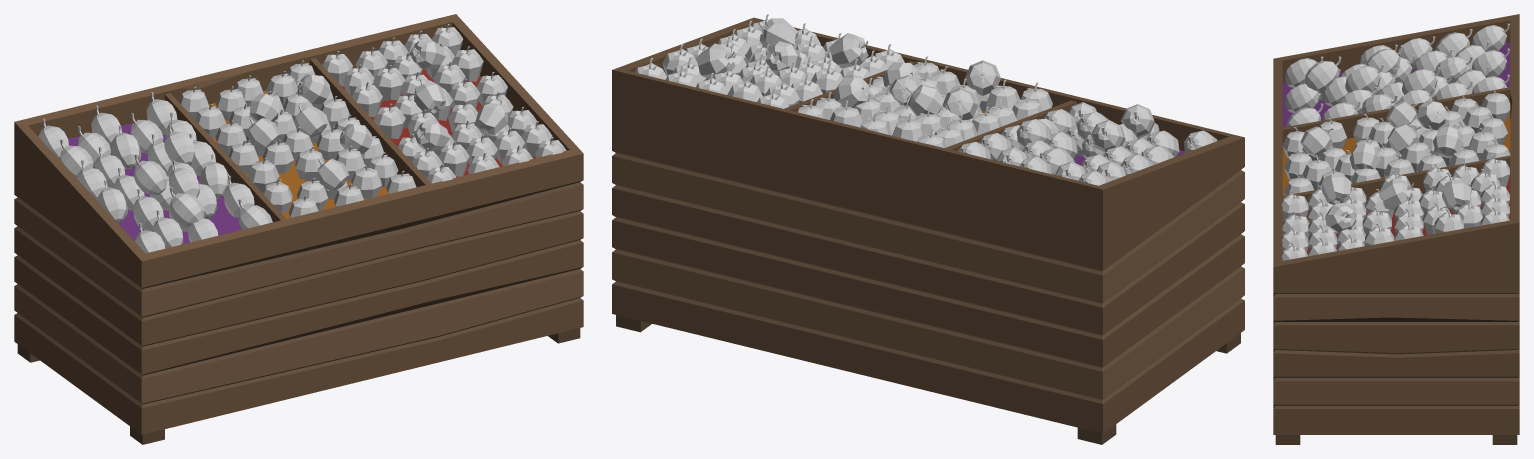
File: SM_Props_Interior_SuperMarket_FruitDisplay_Preset_01.fbx
The picture shows the model from 3 angles, left to right: view 1: azimuth 30°, elevation 25°; view 2: azimuth 150°, elevation 25°; view 3: azimuth 270°, elevation 25°; orthographic projection. The views are drawn at different scales.
Visible parts, largest first — view 1: SM_Props_Interior_SuperMarket_FruitDisplay_Preset_01, SM_Props_Interior_SuperMarket_FruitDisplay_Preset_01_Fruit; view 2: SM_Props_Interior_SuperMarket_FruitDisplay_Preset_01, SM_Props_Interior_SuperMarket_FruitDisplay_Preset_01_Fruit; view 3: SM_Props_Interior_SuperMarket_FruitDisplay_Preset_01, SM_Props_Interior_SuperMarket_FruitDisplay_Preset_01_Fruit.
Boxes of the visible parts, box(x1,y1,x2,y2) form: SM_Props_Interior_SuperMarket_FruitDisplay_Preset_01: box(14, 14, 583, 444); SM_Props_Interior_SuperMarket_FruitDisplay_Preset_01_Fruit: box(38, 24, 566, 253); SM_Props_Interior_SuperMarket_FruitDisplay_Preset_01: box(612, 17, 1244, 444); SM_Props_Interior_SuperMarket_FruitDisplay_Preset_01_Fruit: box(635, 14, 1217, 185); SM_Props_Interior_SuperMarket_FruitDisplay_Preset_01: box(1273, 14, 1519, 444); SM_Props_Interior_SuperMarket_FruitDisplay_Preset_01_Fruit: box(1281, 23, 1510, 260).
Bounding box in the file's own units: 200 × 105 × 100.
